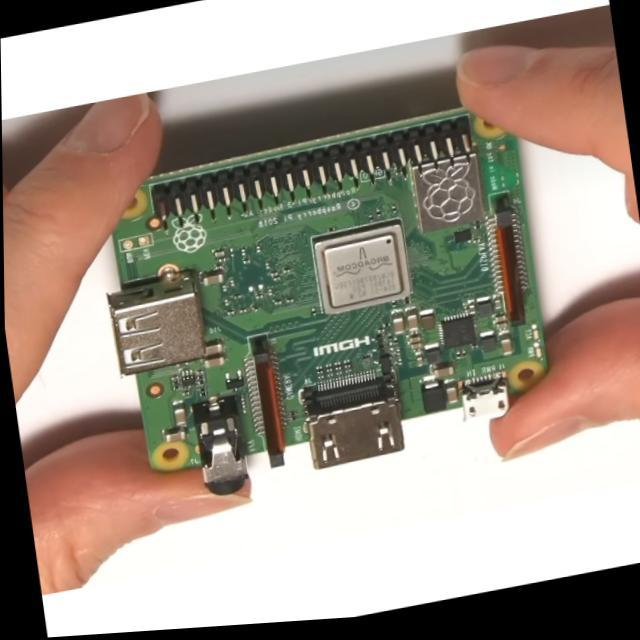Raspberry-Pi-3-A-: (109, 113, 547, 495)
